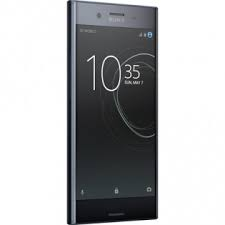sony: (65, 1, 161, 223)
